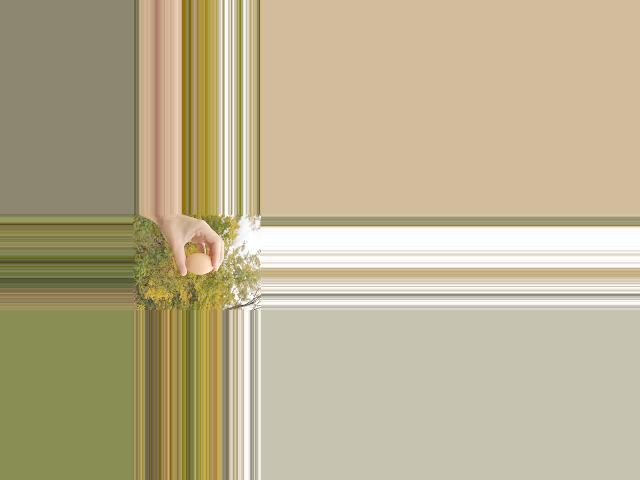egg: (185, 253, 214, 274)
